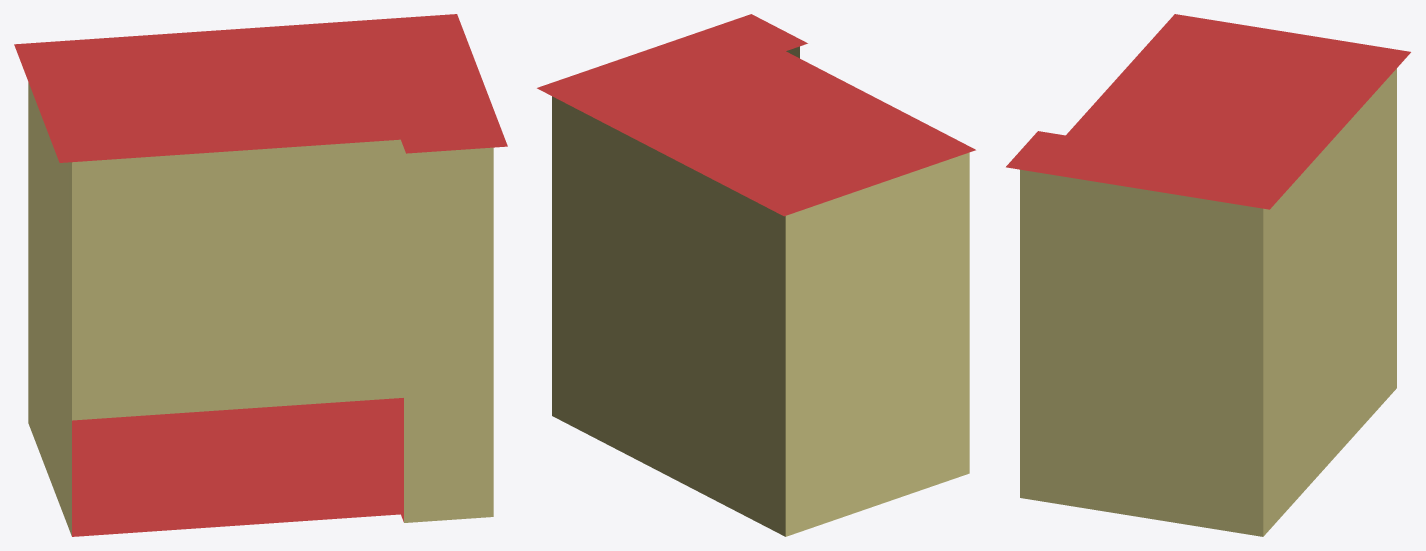
3 renders of one model, left to right at view 1: azimuth 30°, elevation 25°; view 2: azimuth 150°, elevation 25°; view 3: azimuth 270°, elevation 25°, orthographic. The views are drawn at different scales.
Size of the model in its own units: 10.32 by 9.05 by 8.2.
